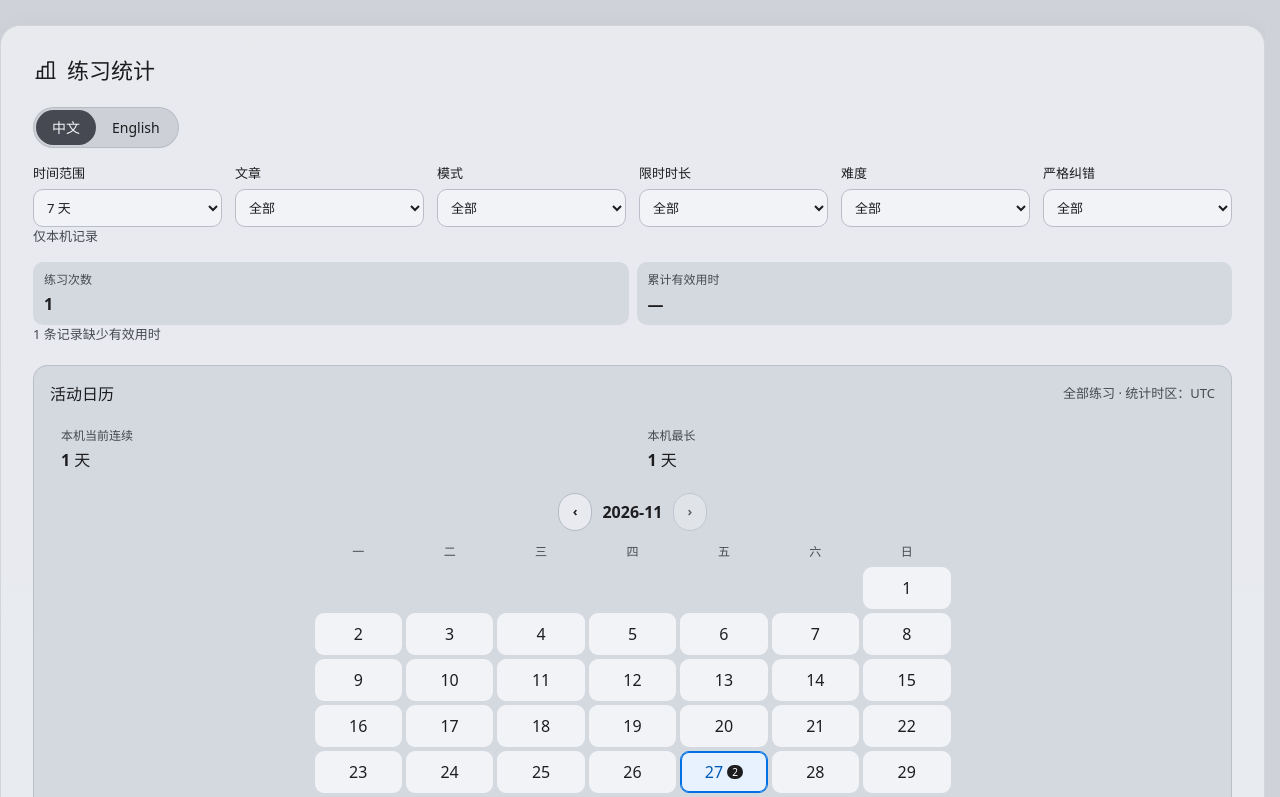
it: personal progress views › switches statistics by language with accessible values for the actual daily trend
Click the button "English".
click(136, 128)  # box [96, 110, 176, 145]
(page scrolled)
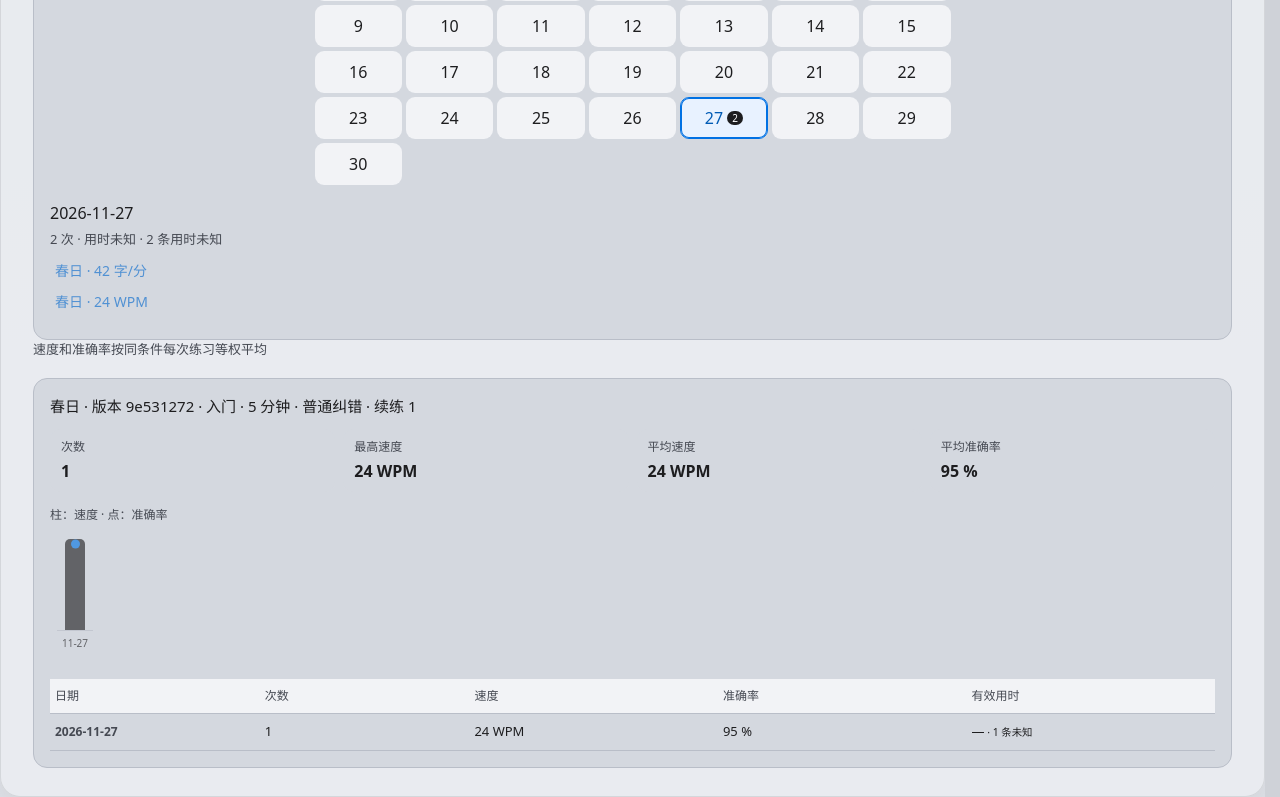
Check: the table named "每日统计" is shown, box [50, 679, 1215, 750]
Check: the cell "24 WPM" is shown, box [469, 714, 718, 750]
